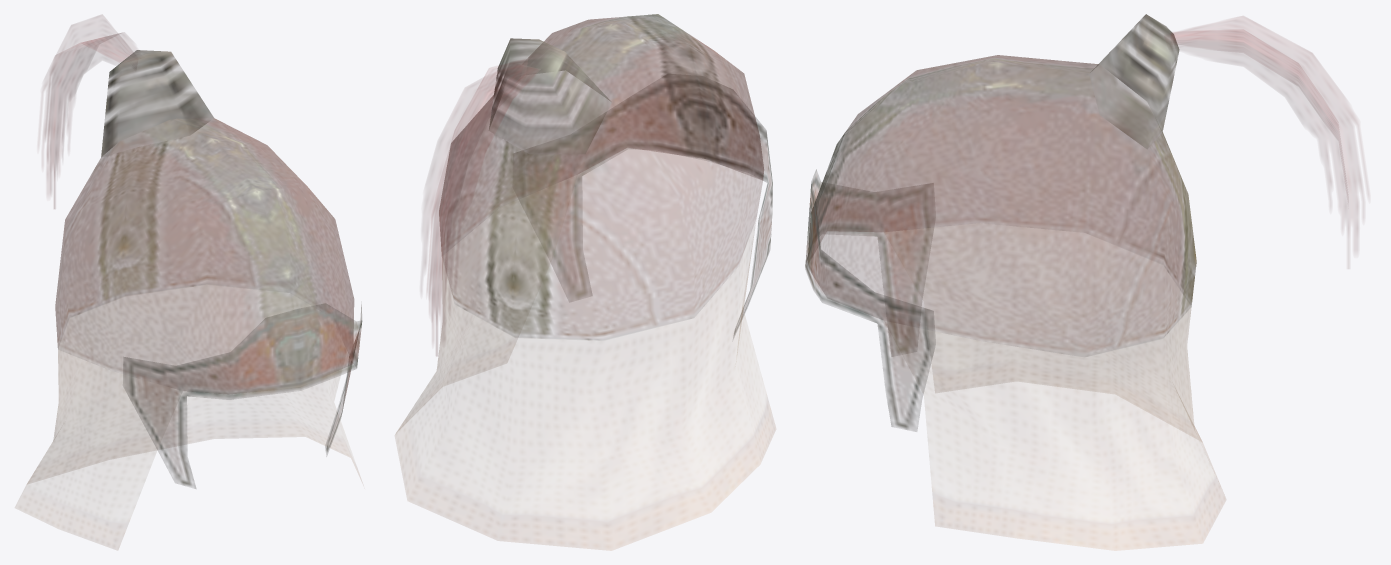
File: heavy_01_ha.glb
3 renders of one model, left to right at view 1: azimuth 30°, elevation 25°; view 2: azimuth 150°, elevation 25°; view 3: azimuth 270°, elevation 25°, orthographic. The views are drawn at different scales.
Parts seen in each view (by area): view 1: Heavy_01_ha; view 2: Heavy_01_ha; view 3: Heavy_01_ha.
Boxes of the visible parts, box(x1,y1,x2,y2) form: Heavy_01_ha: box(16, 15, 362, 548); Heavy_01_ha: box(395, 14, 774, 548); Heavy_01_ha: box(805, 14, 1361, 549).
Bounding box in the file's own units: 0.187 × 0.2692 × 0.2879.
Materials: 1 (1 with a texture image).
